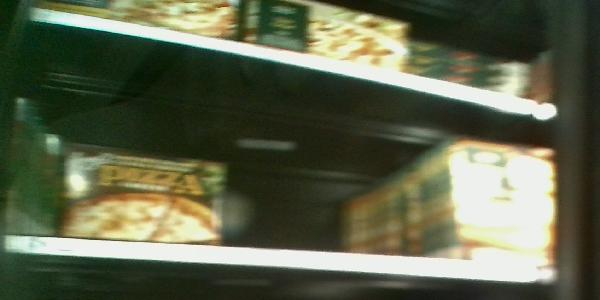pizza: (67, 143, 223, 248), (444, 136, 553, 262)
